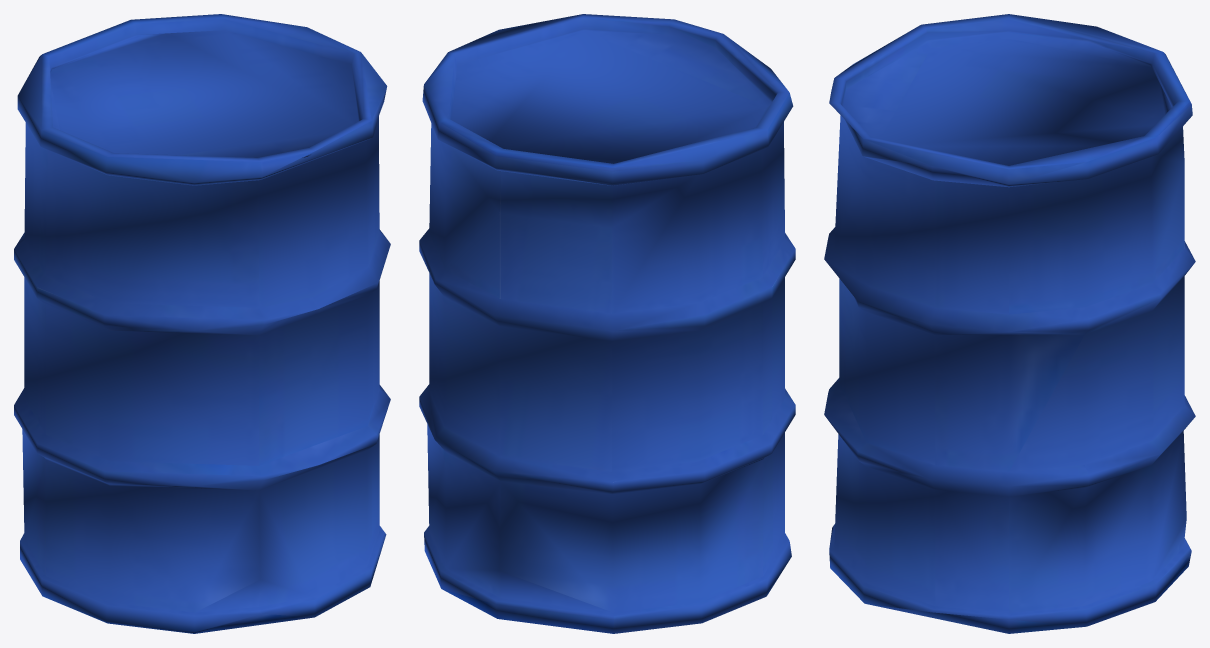
File: barrel.glb
The picture shows the model from 3 angles, left to right: view 1: azimuth 30°, elevation 25°; view 2: azimuth 150°, elevation 25°; view 3: azimuth 270°, elevation 25°; orthographic projection.
Parts seen in each view (by area): view 1: tripo_node_165b9dd2-5359-45df-9959-3e8403fae4fa; view 2: tripo_node_165b9dd2-5359-45df-9959-3e8403fae4fa; view 3: tripo_node_165b9dd2-5359-45df-9959-3e8403fae4fa.
Part boxes in pixels (<box>): tripo_node_165b9dd2-5359-45df-9959-3e8403fae4fa: <box>14,14,390,633</box>; tripo_node_165b9dd2-5359-45df-9959-3e8403fae4fa: <box>419,14,795,633</box>; tripo_node_165b9dd2-5359-45df-9959-3e8403fae4fa: <box>824,14,1195,633</box>.
Bounding box in the file's own units: 0.6618 × 0.8982 × 0.6494.
Materials: 1 (1 with a texture image).
